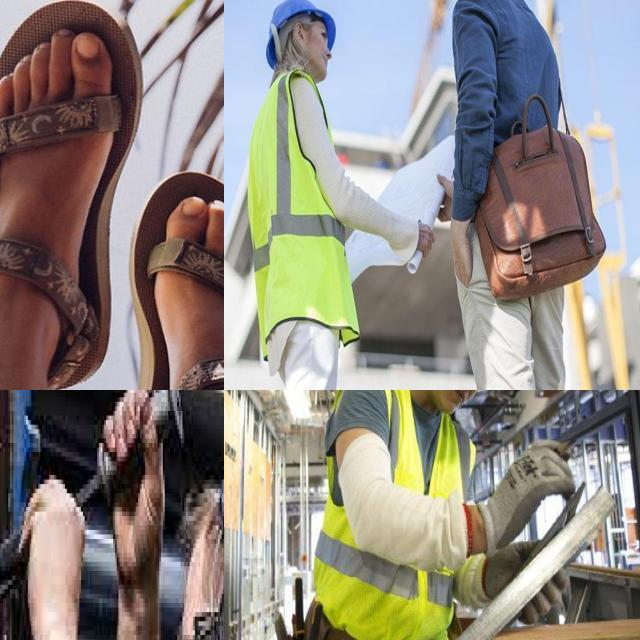Sandals: (0, 0, 145, 387), (134, 168, 224, 390)
face_nomask: (293, 14, 335, 82), (426, 390, 501, 421)
hand_glove: (478, 442, 577, 556)
hand_noglove: (445, 211, 476, 297), (410, 218, 440, 270)
head_helmet: (259, 0, 336, 55)
person: (451, 0, 594, 390), (304, 390, 526, 640), (246, 0, 353, 390)
vest: (330, 390, 462, 640), (250, 72, 351, 344)
